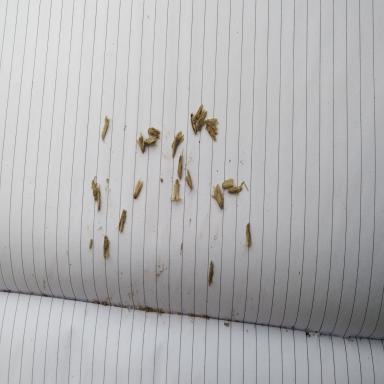pbw: (227, 181, 249, 196), (101, 115, 111, 144), (176, 148, 184, 180), (196, 110, 207, 132), (132, 179, 144, 199), (205, 124, 218, 142), (171, 130, 184, 148), (118, 208, 127, 232), (136, 132, 146, 153), (190, 112, 197, 135), (144, 136, 157, 148), (91, 179, 98, 200), (194, 104, 203, 120), (103, 234, 109, 258), (148, 127, 160, 139), (208, 259, 213, 286), (172, 136, 178, 158), (222, 178, 234, 189), (173, 179, 179, 200), (246, 222, 251, 247), (186, 170, 192, 190), (97, 183, 101, 212), (204, 118, 218, 126)
